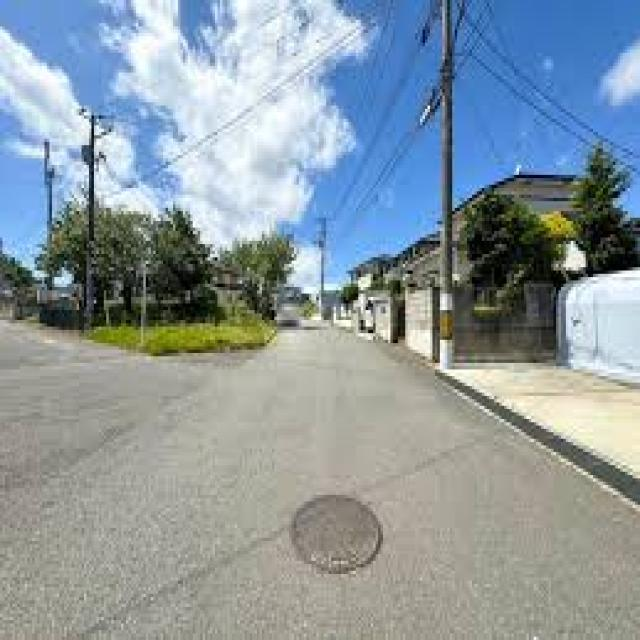manhole: (293, 496, 381, 574)
